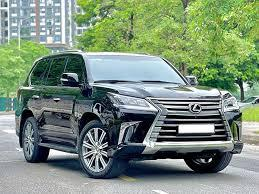lexus: (187, 101, 205, 117)
